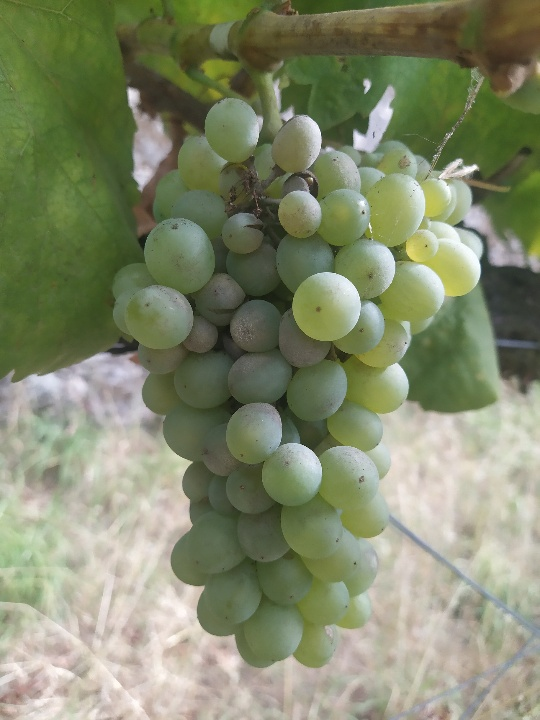grape: (107, 90, 485, 670)
